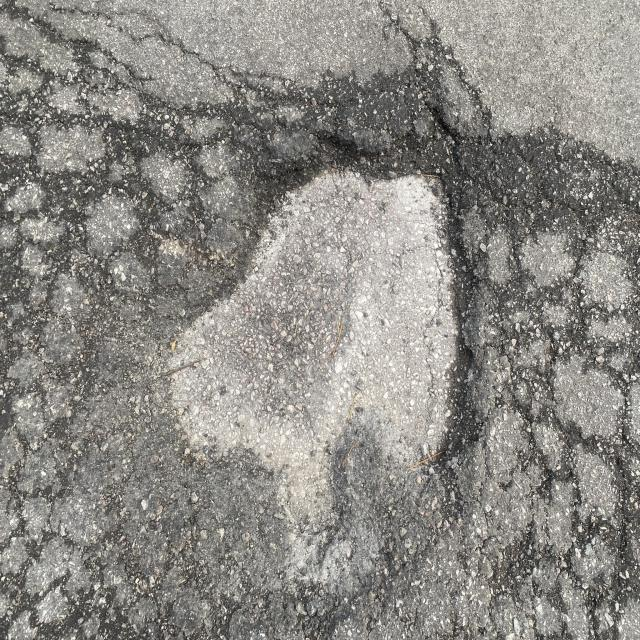Pothole: (238, 71, 542, 524)
